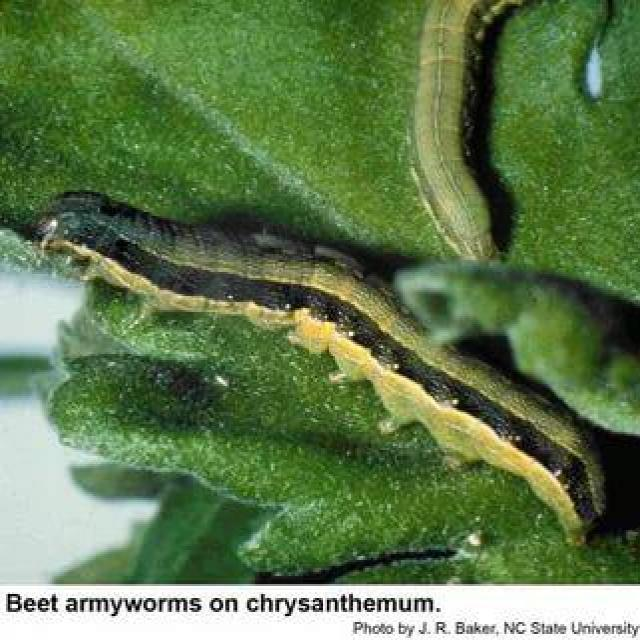BeetArmyWorm-Larva-: (27, 178, 610, 550), (405, 3, 519, 264)
